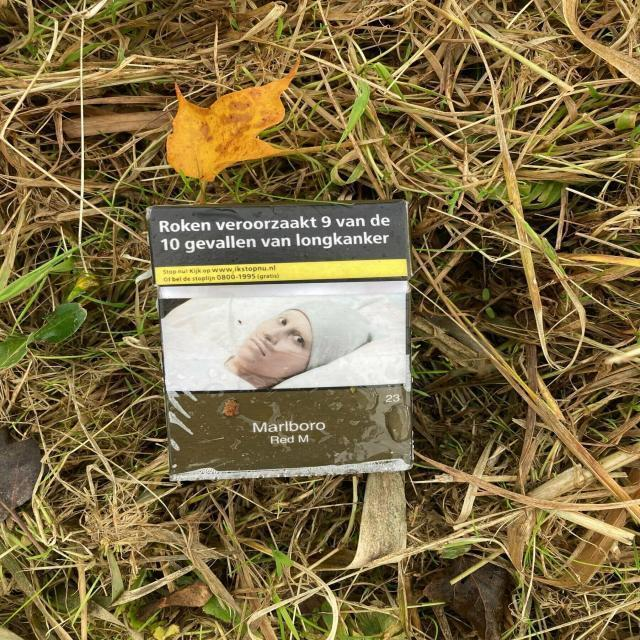Paper: (143, 196, 418, 485)
